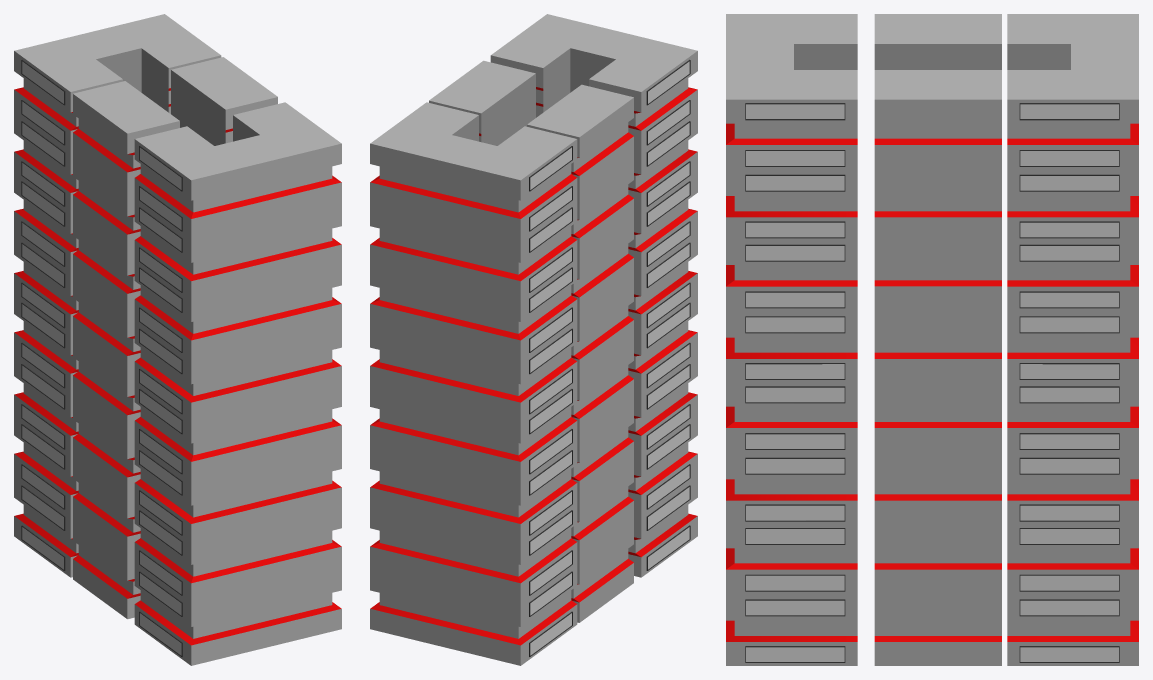
Rendered from tower_3.fbx.
3 renders of one model, left to right at view 1: azimuth 30°, elevation 25°; view 2: azimuth 150°, elevation 25°; view 3: azimuth 270°, elevation 25°, orthographic. The views are drawn at different scales.
Visible parts, largest first — view 1: tower_end, tower_3_mid, tower_3; view 2: tower_3, tower_end, tower_3_mid; view 3: tower_3, tower_end, tower_3_mid.
Part boxes in pixels (x1,y1,x2,y2): tower_end: [134, 102, 341, 665]; tower_3_mid: [73, 57, 277, 619]; tower_3: [14, 14, 221, 577]; tower_3: [370, 102, 577, 665]; tower_end: [490, 14, 697, 577]; tower_3_mid: [429, 60, 633, 622]; tower_3: [1007, 14, 1138, 665]; tower_end: [726, 14, 857, 665]; tower_3_mid: [874, 14, 1001, 665].
Bounding box in the file's own units: 36.05 × 110 × 72.47.
